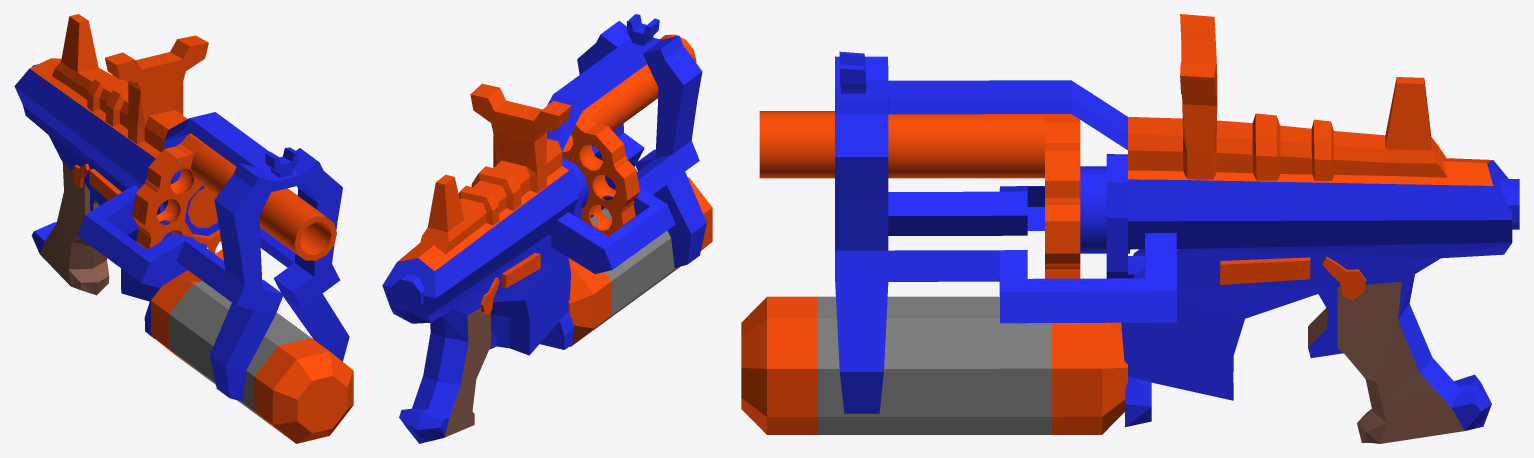
File: Nerf.FBX
The picture shows the model from 3 angles, left to right: view 1: azimuth 30°, elevation 25°; view 2: azimuth 150°, elevation 25°; view 3: azimuth 270°, elevation 25°; orthographic projection. The views are drawn at different scales.
Parts seen in each view (by area): view 1: Nerf, Sarjor2, Sarjor, Namlu, Ek; view 2: Nerf, Sarjor2, Sarjor, Namlu, Ek; view 3: Nerf, Sarjor2, Namlu, Sarjor, Ek.
Boxes of the visible parts, x1,y1,x2,y2 form: Nerf: (14, 14, 349, 401); Sarjor2: (151, 277, 353, 443); Sarjor: (132, 133, 223, 282); Namlu: (190, 144, 336, 260); Ek: (162, 169, 219, 235); Nerf: (382, 14, 706, 443); Sarjor2: (568, 177, 712, 346); Sarjor: (562, 111, 639, 236); Namlu: (568, 34, 696, 146); Ek: (562, 157, 589, 208); Nerf: (835, 14, 1519, 443); Sarjor2: (741, 296, 1127, 434); Namlu: (759, 111, 1044, 178); Sarjor: (1045, 114, 1080, 278); Ek: (1080, 166, 1129, 253).
Bounding box in the file's own units: 428 × 681 × 1203.
